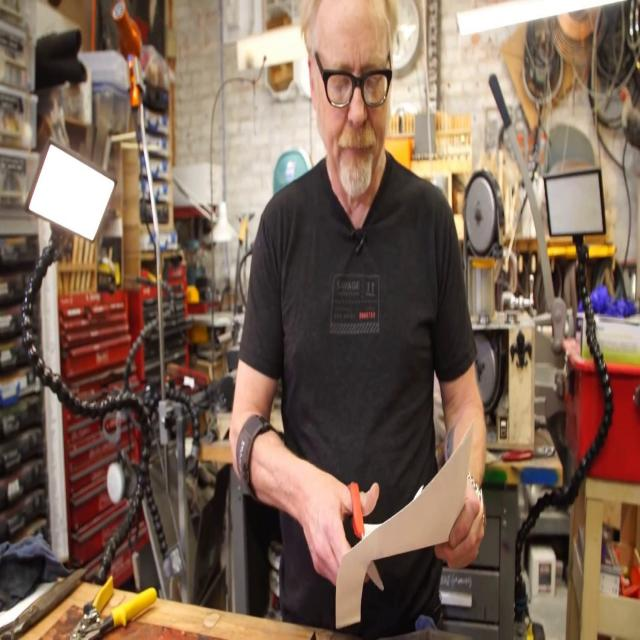scissor: (347, 477, 386, 590)
